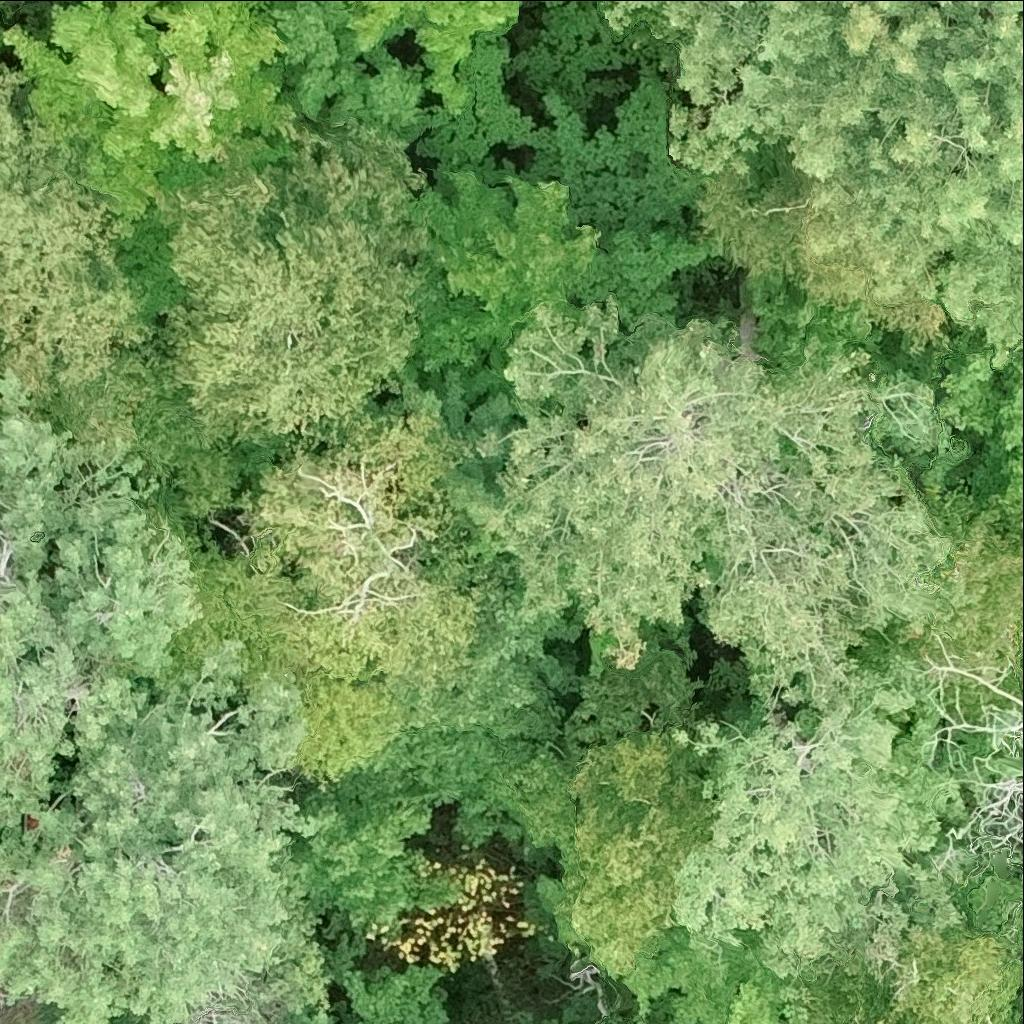crown: (478, 294, 949, 718), (608, 0, 1023, 357), (0, 638, 319, 1023), (669, 656, 965, 978), (0, 364, 201, 836), (163, 120, 430, 443), (0, 63, 184, 458), (237, 406, 476, 703), (5, 0, 294, 221), (572, 730, 716, 976), (936, 325, 1023, 534), (355, 0, 512, 108), (858, 925, 1023, 1023), (725, 956, 816, 1023), (965, 778, 1023, 847), (973, 719, 1023, 734), (1004, 694, 1023, 706)
